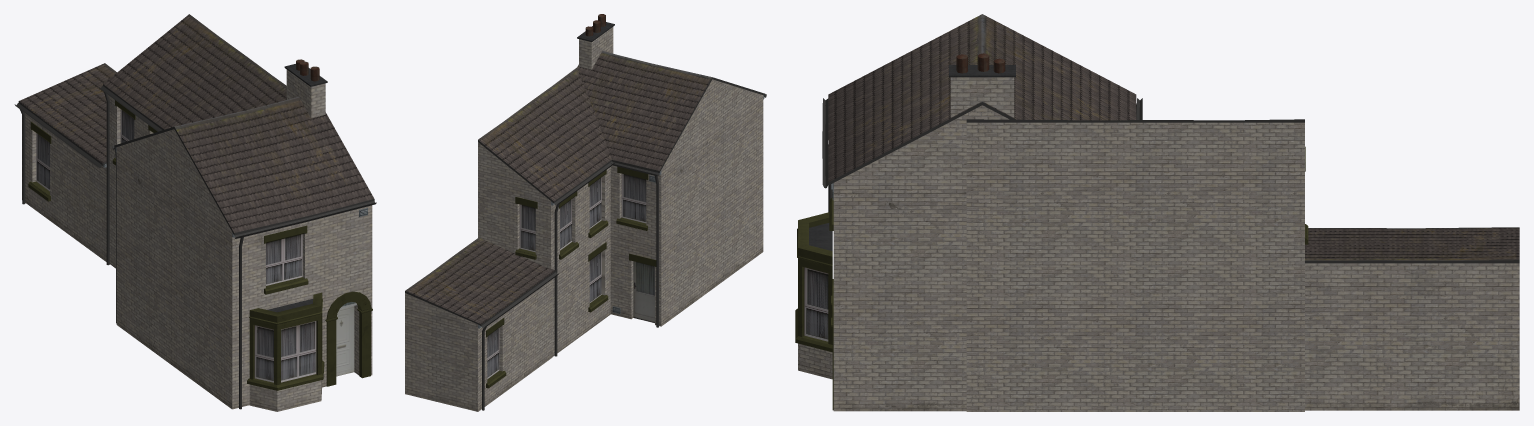
File: ukterracedvictorian9b.FBX
3 renders of one model, left to right at view 1: azimuth 30°, elevation 25°; view 2: azimuth 150°, elevation 25°; view 3: azimuth 270°, elevation 25°, orthographic. The views are drawn at different scales.
Visible parts, largest first — view 1: Object003; view 2: Object003; view 3: Object003.
Boxes of the visible parts, bbox=[...] form: Object003: bbox=[14, 14, 376, 411]; Object003: bbox=[405, 14, 766, 411]; Object003: bbox=[795, 14, 1519, 411].
Size of the model in its own units: 561 by 1041 by 1949.
